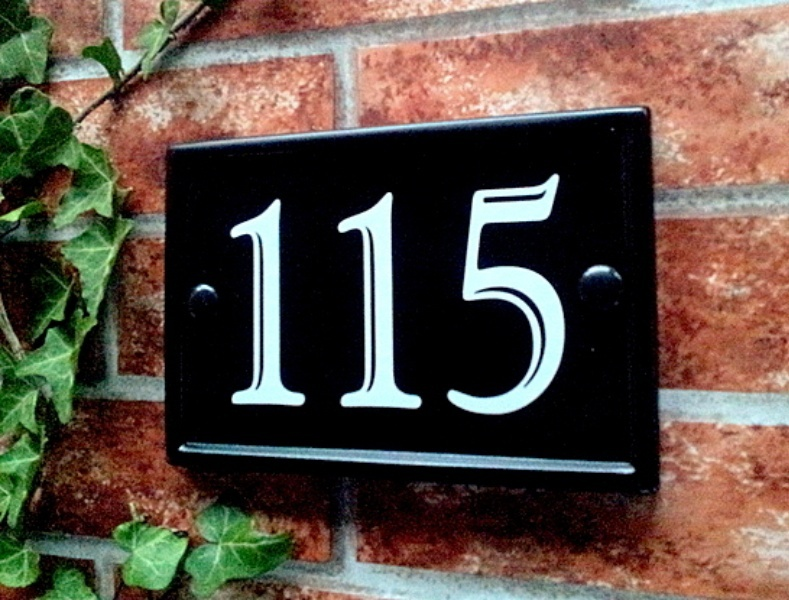text: (241, 168, 256, 420), (257, 168, 272, 420), (273, 168, 288, 420), (289, 168, 304, 420), (305, 168, 320, 420), (321, 168, 336, 420), (337, 168, 352, 420), (353, 168, 368, 420), (369, 168, 384, 420), (385, 168, 400, 420), (401, 168, 416, 420), (417, 168, 432, 420), (433, 168, 448, 420), (449, 168, 464, 420), (465, 168, 480, 420), (481, 168, 496, 420), (497, 168, 512, 420), (513, 168, 528, 420), (529, 168, 544, 420), (545, 168, 560, 420), (229, 168, 240, 420), (561, 168, 568, 420)
